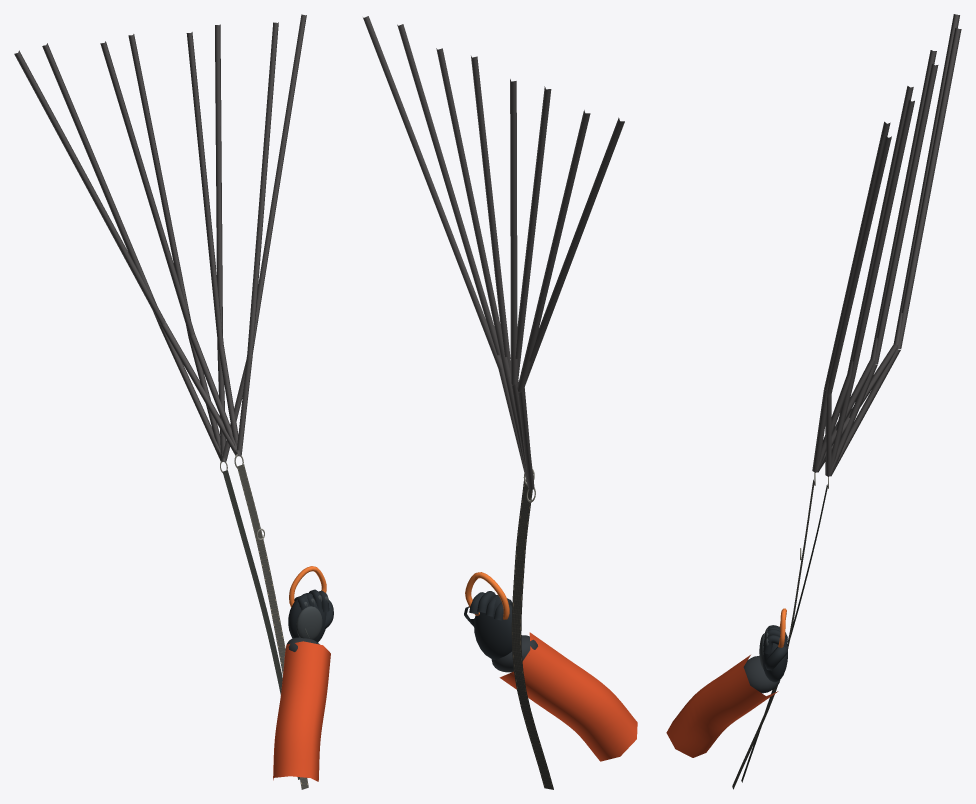
Rendered from LeftRiser.glb.
3 views of the same model, side by side, from view 1: azimuth 30°, elevation 25°; view 2: azimuth 150°, elevation 25°; view 3: azimuth 270°, elevation 25° (orthographic). The views are drawn at different scales.
Parts seen in each view (by area): view 1: LeftRiser; view 2: LeftRiser; view 3: LeftRiser.
Part boxes in pixels (x1,y1,x2,y2): LeftRiser: [14, 14, 333, 789]; LeftRiser: [363, 16, 637, 789]; LeftRiser: [666, 14, 961, 789].
Size of the model in its own units: 0.6361 by 1.64 by 0.6363.
10 materials, 1 textured.
